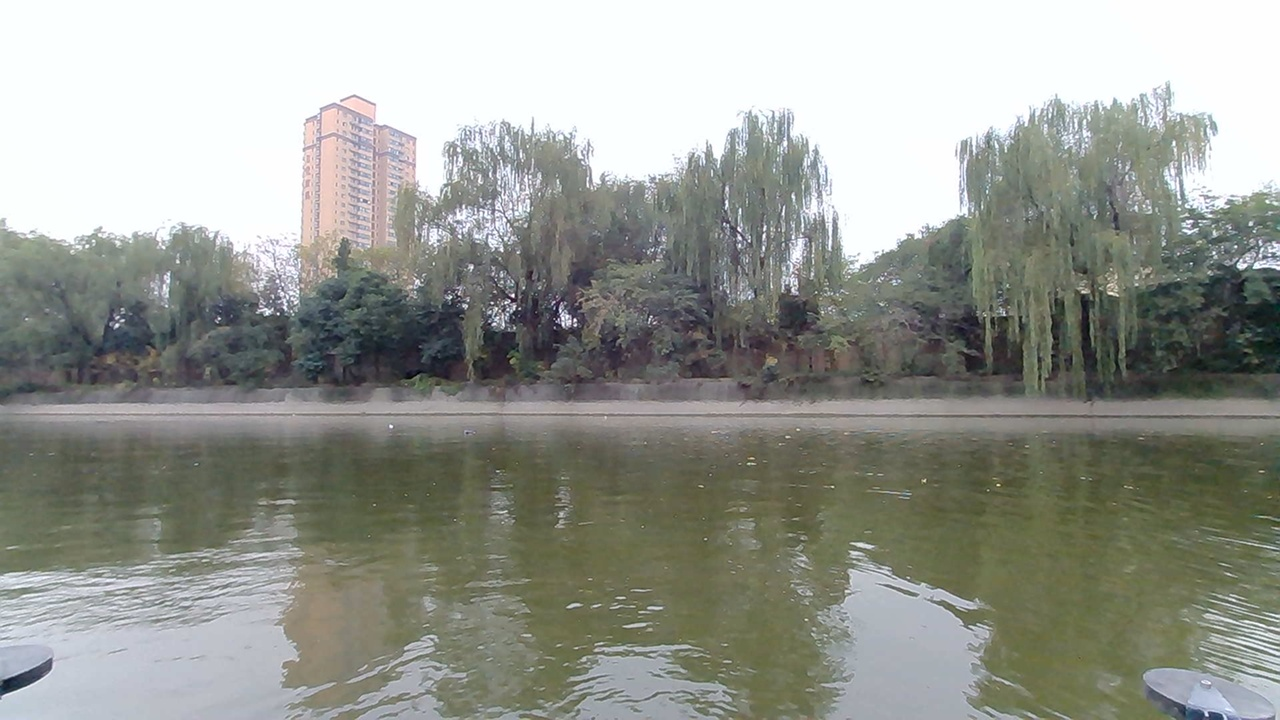bottle: (452, 423, 484, 441)
